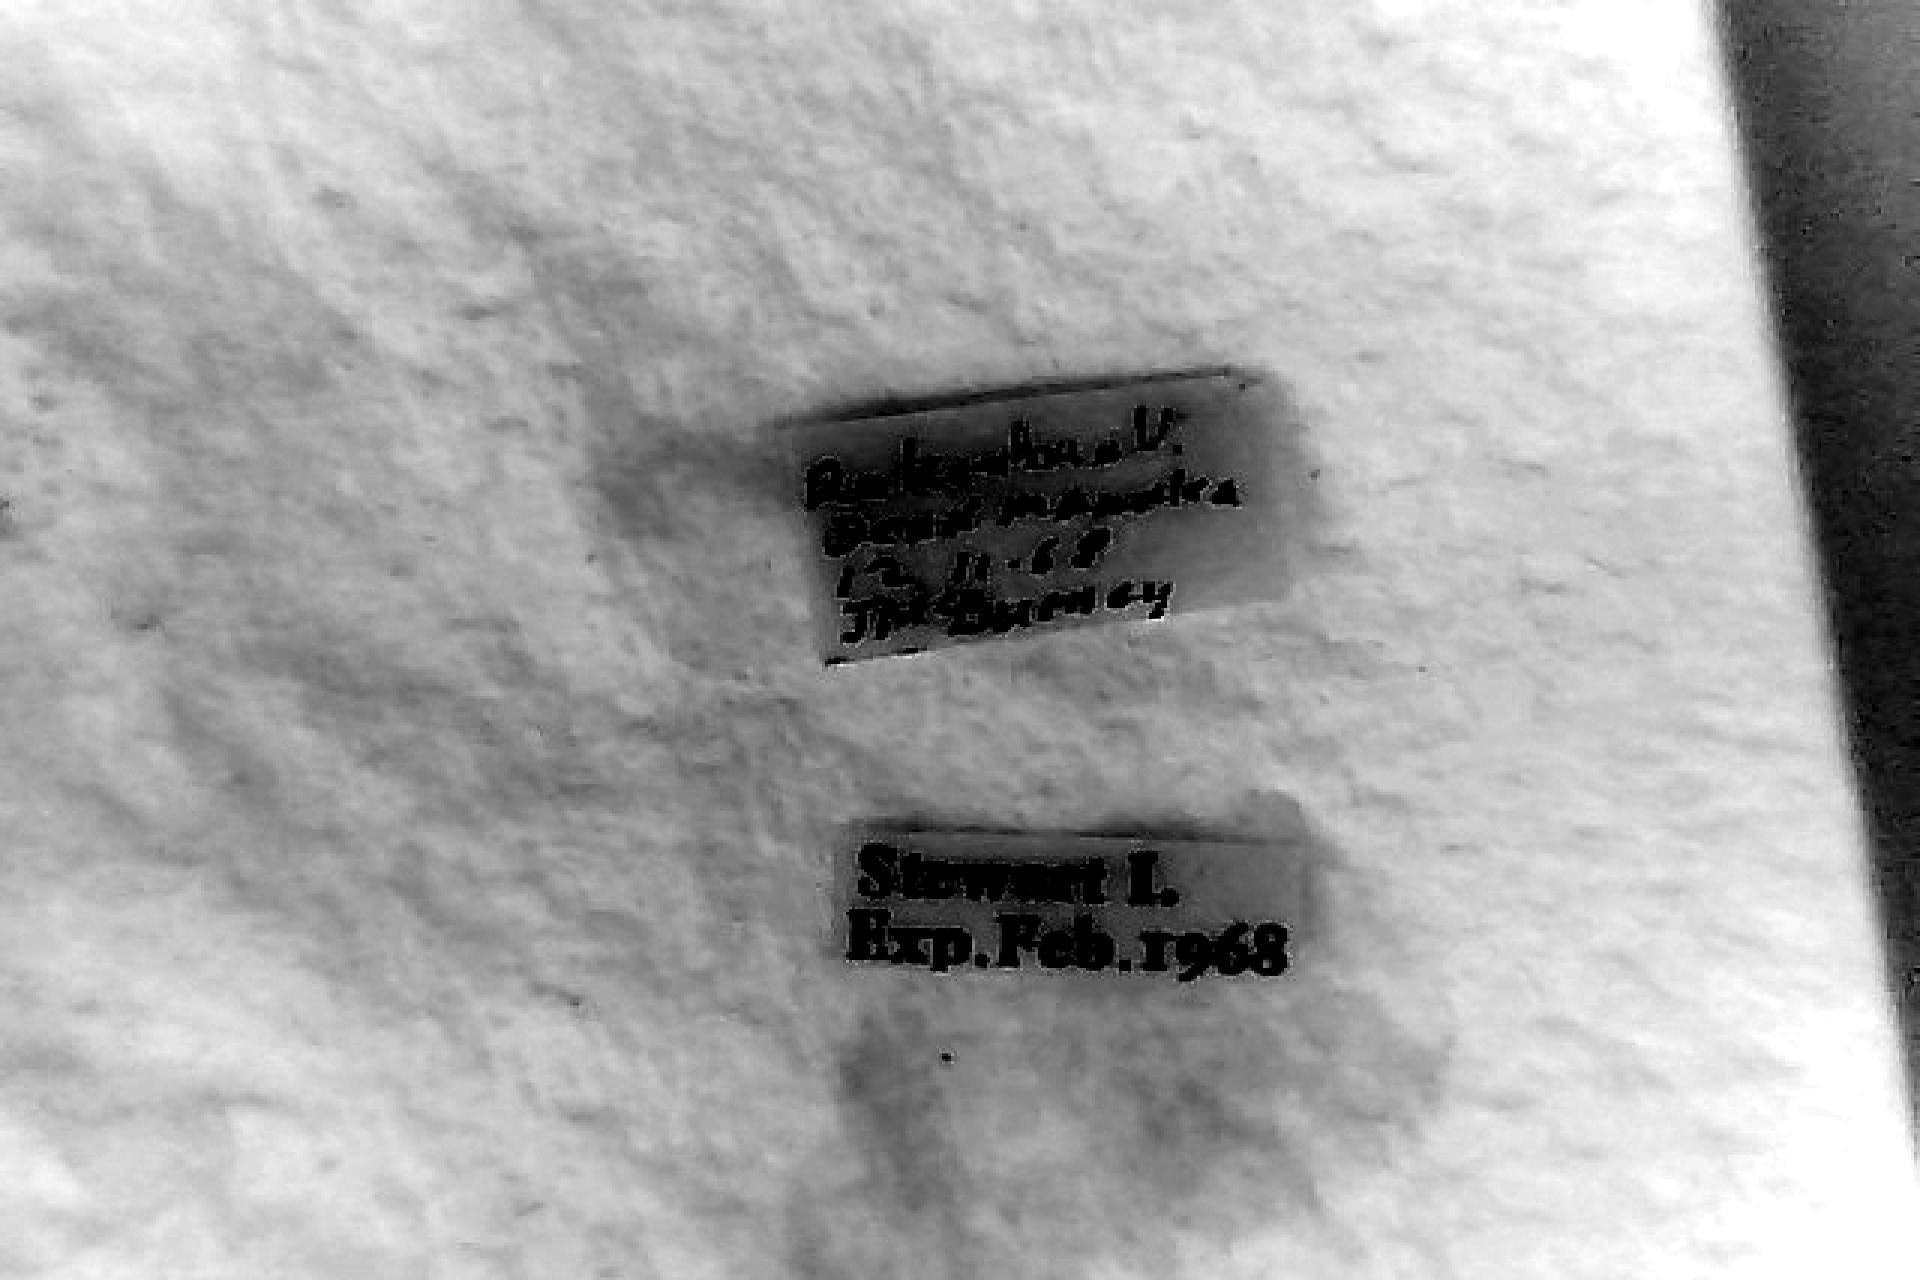hand_label: (793, 377, 1286, 663)
typed_label: (840, 833, 1292, 982)
